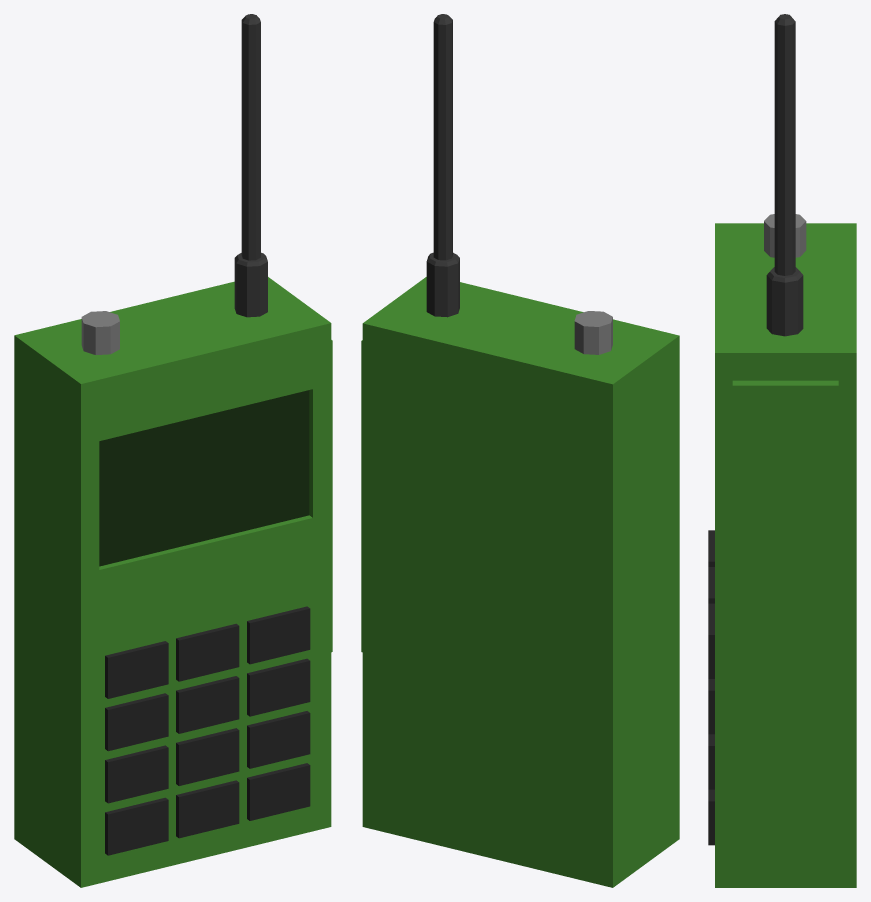
The model's file is Radio_01.fbx.
The picture shows the model from 3 angles, left to right: view 1: azimuth 30°, elevation 25°; view 2: azimuth 150°, elevation 25°; view 3: azimuth 270°, elevation 25°; orthographic projection. The views are drawn at different scales.
Parts seen in each view (by area): view 1: Radio_01; view 2: Radio_01; view 3: Radio_01.
Part boxes in pixels (x1,y1,x2,y2): Radio_01: [14, 14, 332, 887]; Radio_01: [361, 14, 679, 887]; Radio_01: [708, 14, 856, 887].
Bounding box in the file's own units: 19.09 × 55.96 × 8.87.
